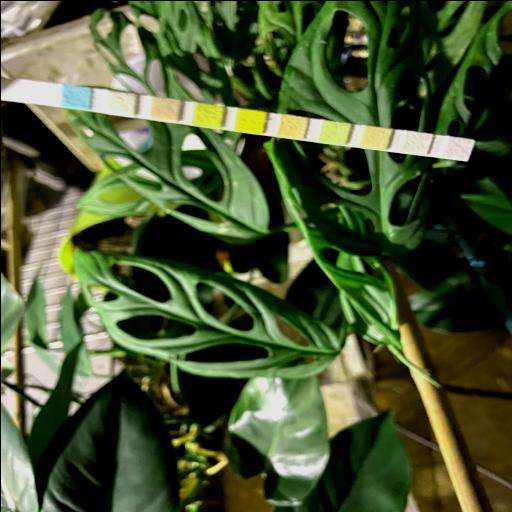Bilirubin: (108, 93, 132, 113)
Blood: (236, 111, 262, 130)
Glucose: (62, 87, 88, 106)
Ketone: (150, 99, 176, 118)
Leukocytes: (449, 138, 468, 158)
Nitrite: (406, 132, 426, 151)
Protein: (322, 122, 345, 142)
SpGravity: (194, 104, 220, 125)
Urobilinogen: (362, 126, 386, 146)
pH: (280, 116, 302, 136)
strip: (0, 76, 475, 160)
